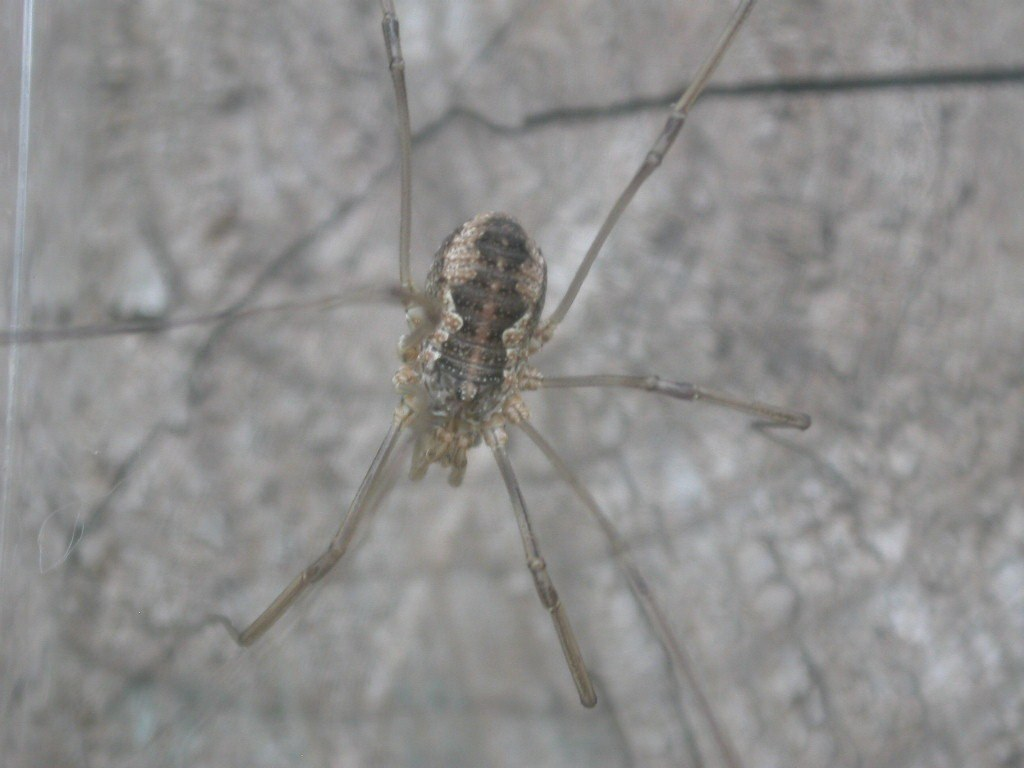insect: (0, 0, 813, 767), (0, 0, 812, 716)
